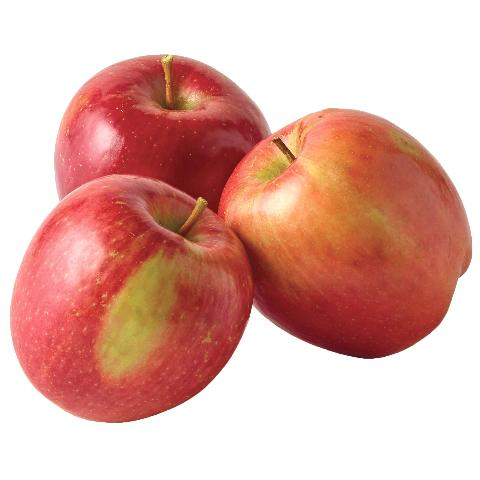red apple: (217, 109, 474, 359), (13, 174, 256, 422), (54, 55, 277, 280)
